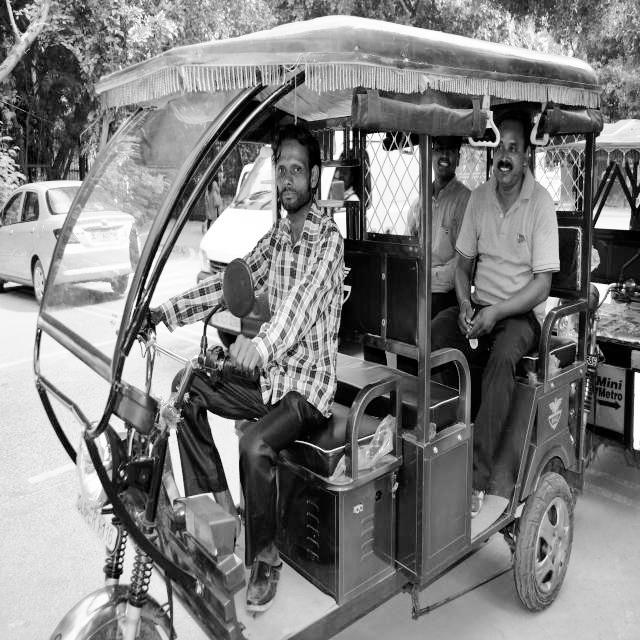Toto: (45, 19, 590, 640)
